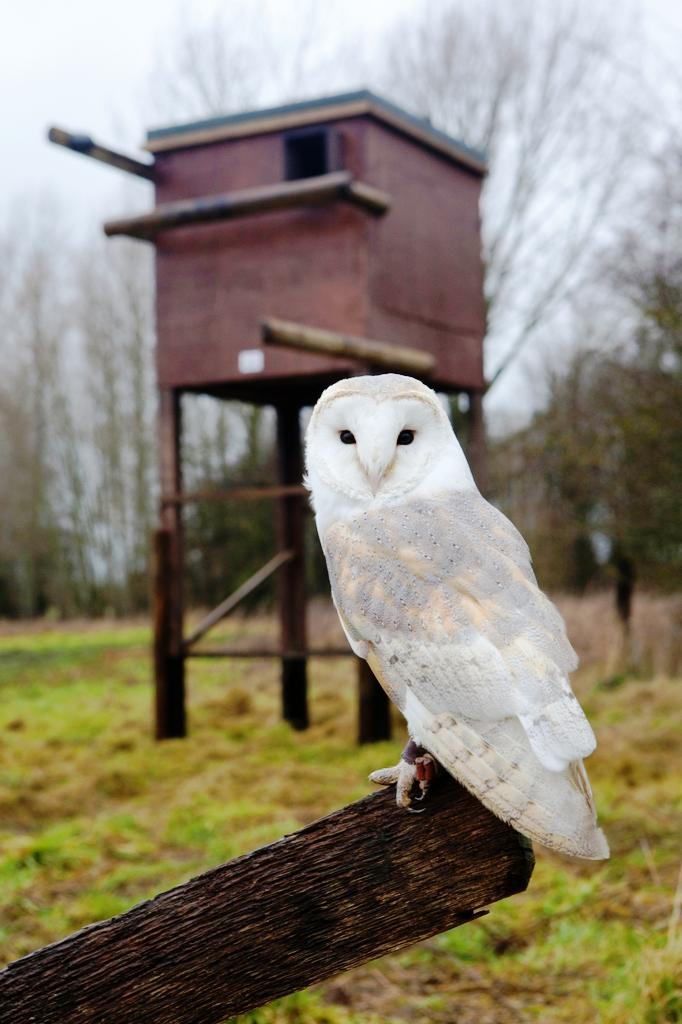Owl: (293, 353, 632, 869)
